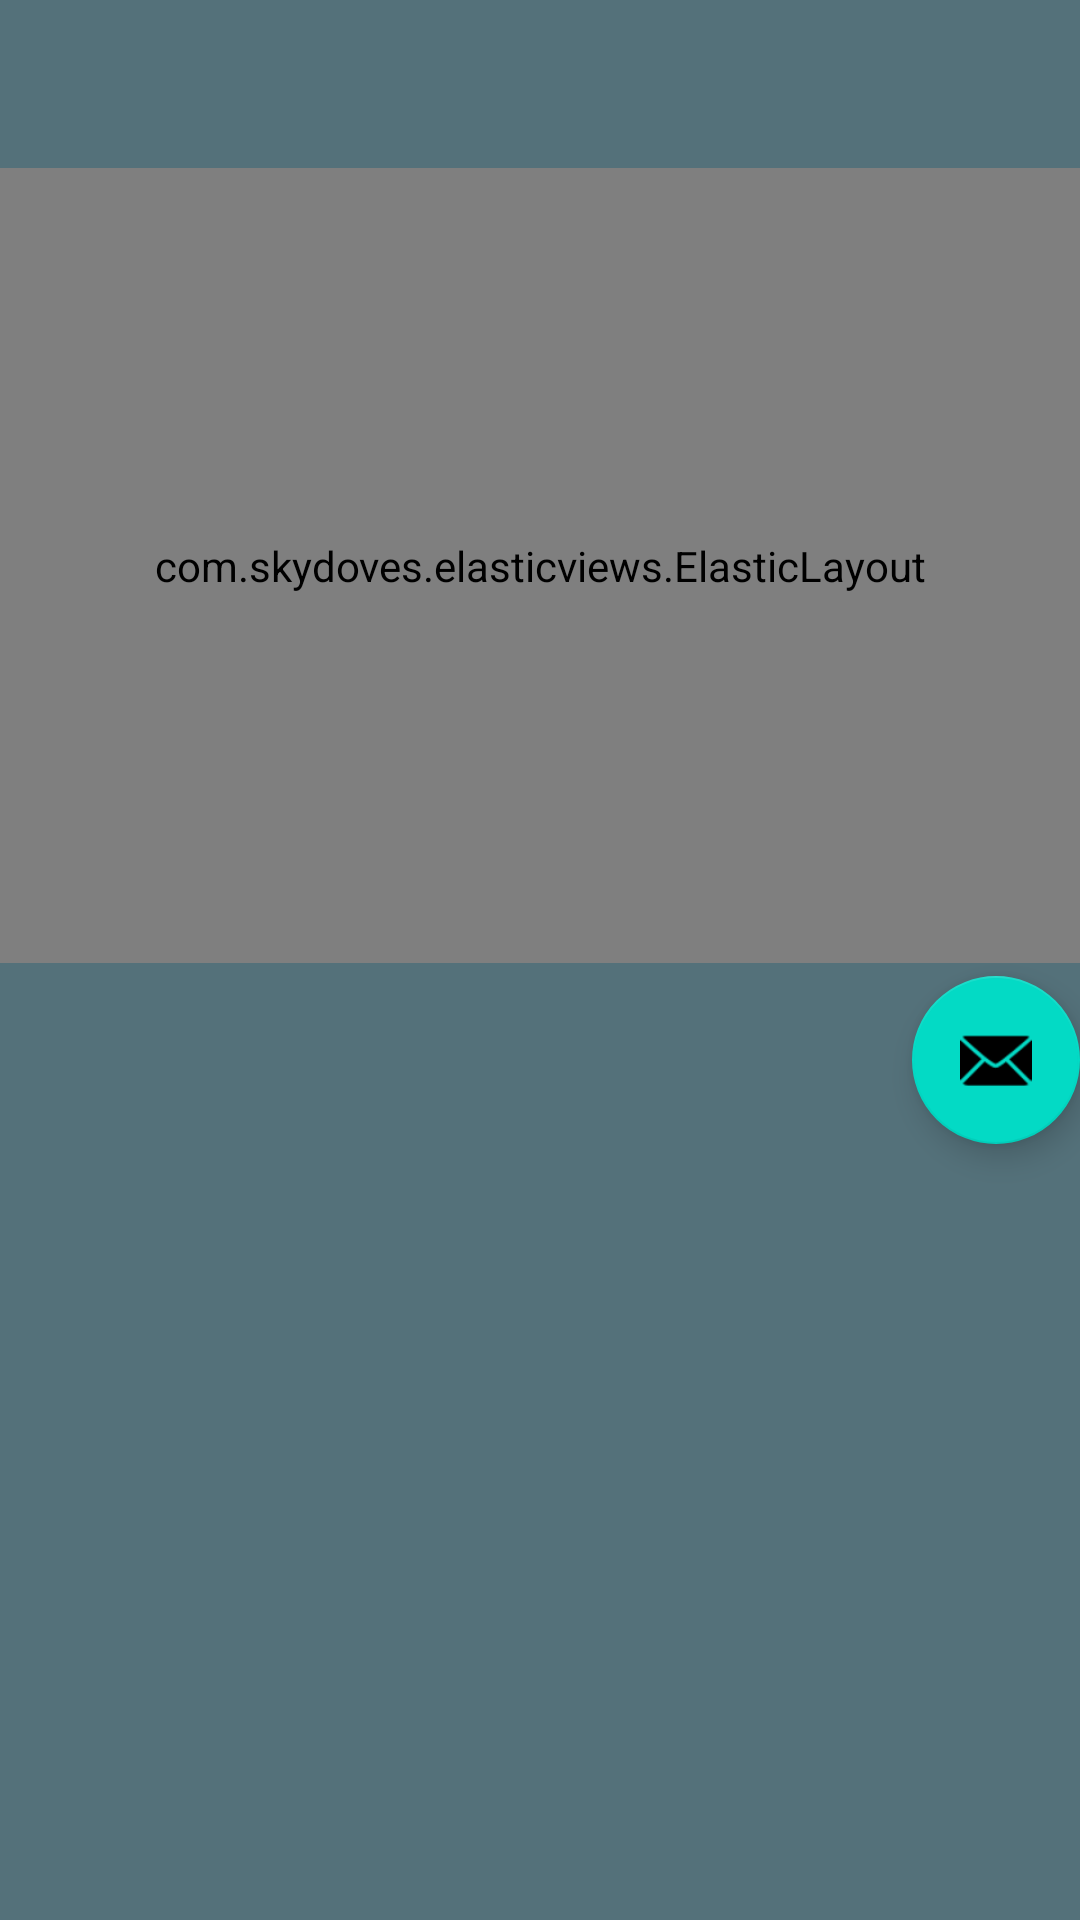

Where to tap for icons on this 1080x1920 app screen, as (x,y):
email: (996,1060)
